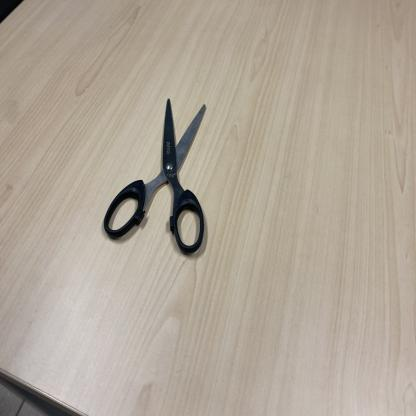scissors: (101, 93, 208, 262)
